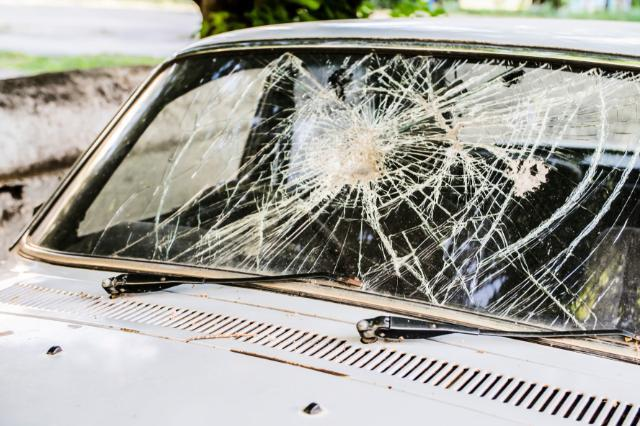Windshield: (25, 56, 640, 343)
